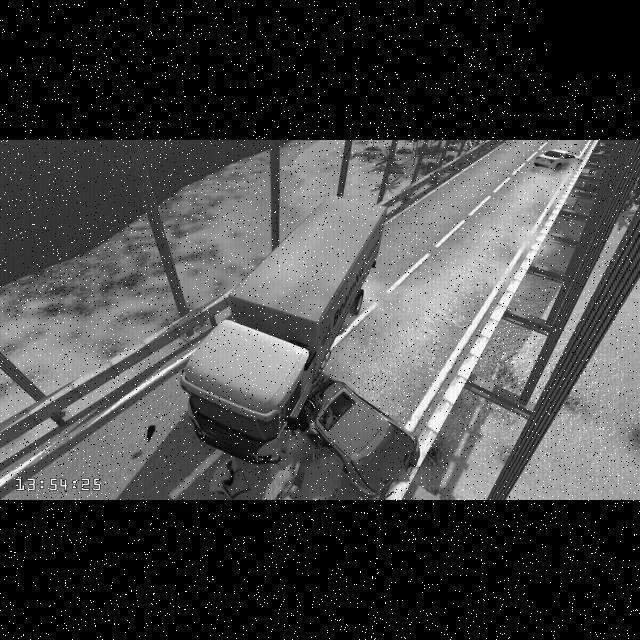accident: (178, 194, 425, 498)
vehicle: (524, 140, 581, 179)
